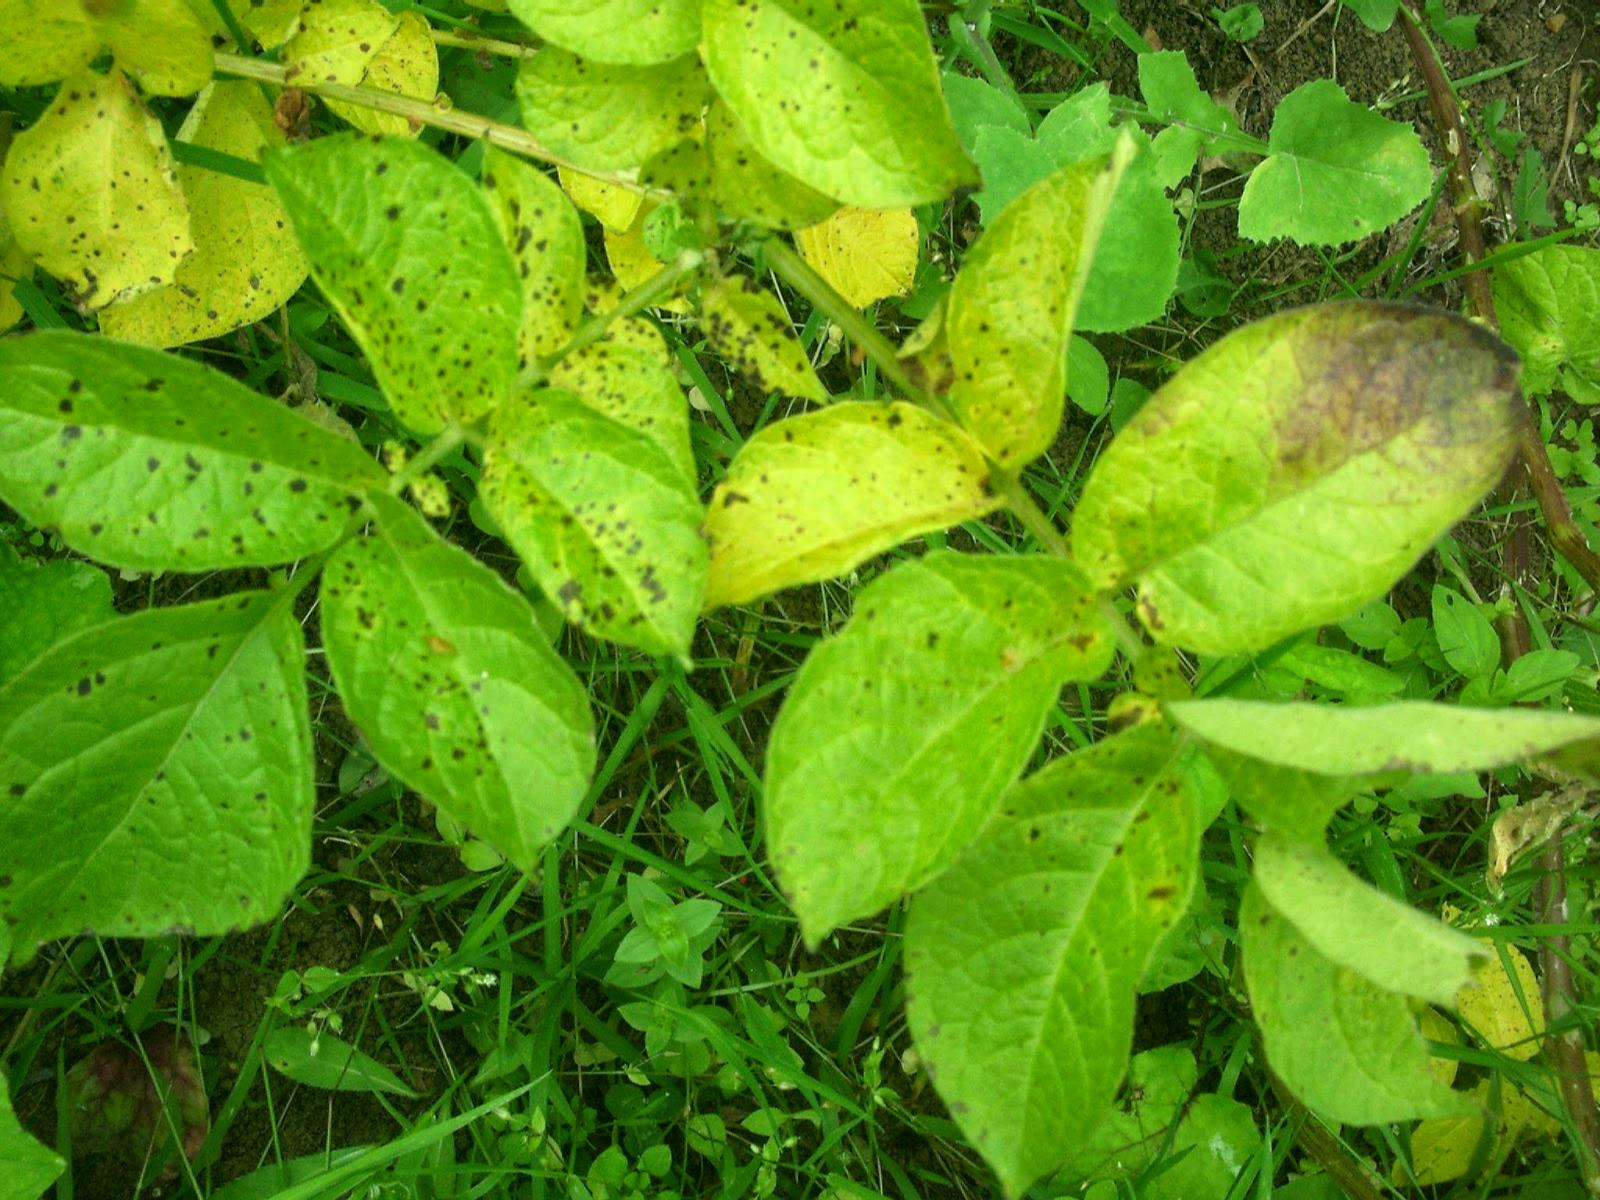Tomato Septoria leaf spot: (740, 545, 1115, 966), (333, 466, 616, 879), (282, 101, 538, 495), (1, 328, 373, 580), (475, 367, 700, 677), (939, 146, 1126, 494), (674, 400, 988, 606), (9, 76, 202, 313), (673, 261, 840, 407)
